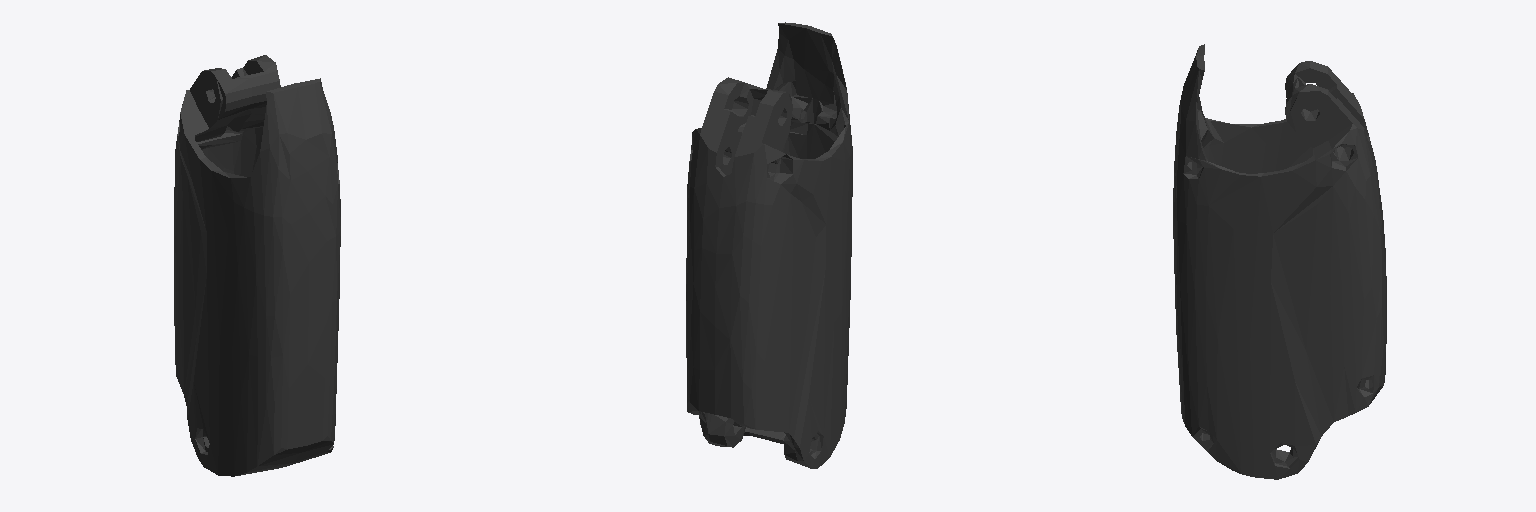
Rendered from L_thumb_proximal.obj.
3 views of the same model, side by side, from view 1: azimuth 30°, elevation 25°; view 2: azimuth 150°, elevation 25°; view 3: azimuth 270°, elevation 25° (orthographic).
Size of the model in its own units: 0.0194 by 0.0672 by 0.0326.